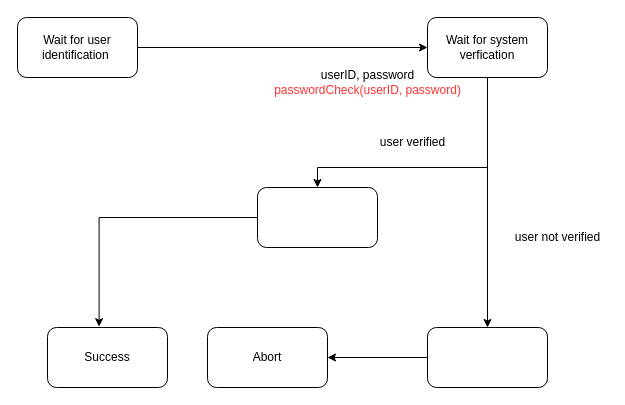
The diagram is 625 pixels wide and 405 high, and some of its shapes have lost their labels. The box of each missing label's shape, as (x1, y1, x2, y2) in pixels:
Grant Memeber permissions: (256, 186, 378, 248)
User state does not change: (426, 326, 548, 388)
